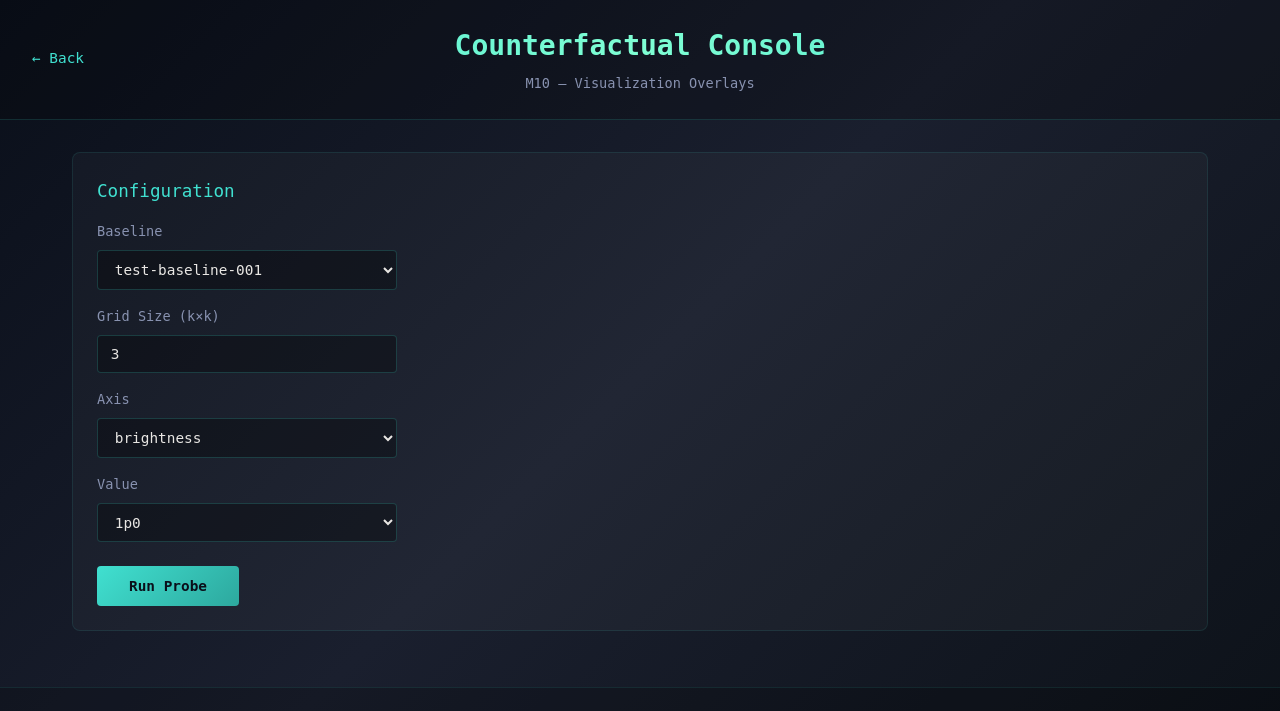
Test: CounterfactualConsole › displays negative delta with correct styling class
Click the button "Run Probe": (168, 586) [97,566,239,606]
(page scrolled)
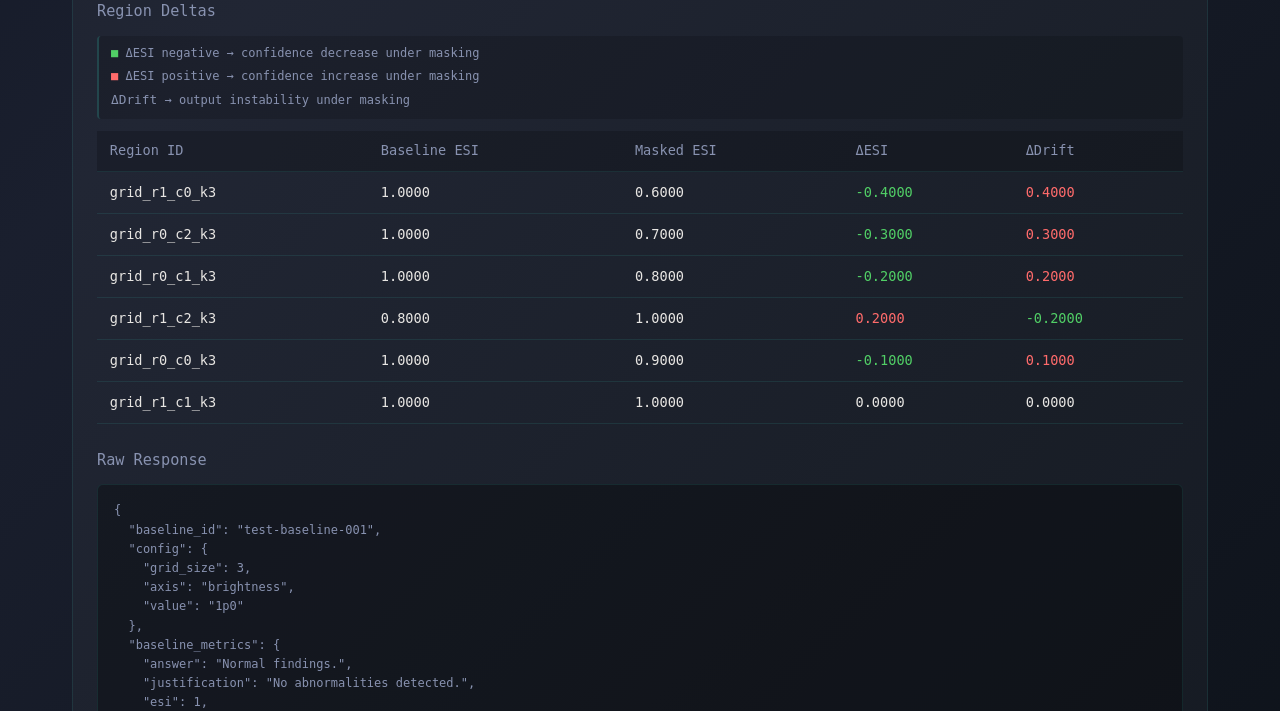
Expected: the text "grid_r0_c0_k3" is shown, [97,340,368,382]
